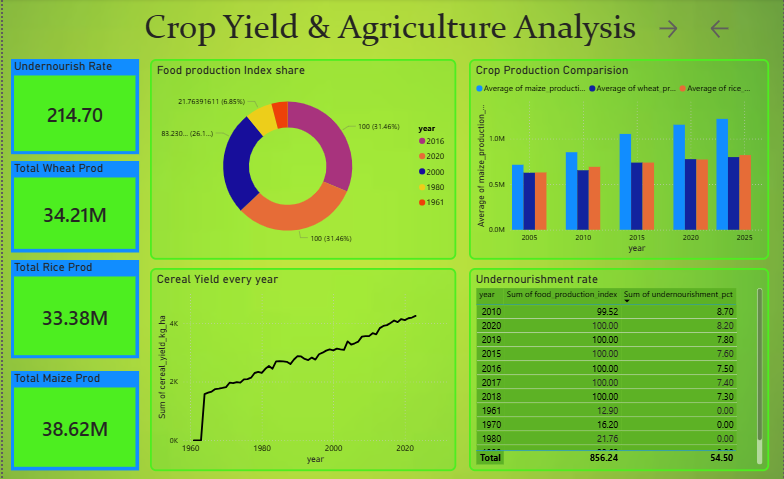

The dashboard page shown, as its layout file describes it:
{"tool":"powerbi","page":{"name":"Crop Yield & Agriculture Analysis","canvas":[1280,790],"ordinal":3},"visuals":[{"type":"clusteredColumnChart","title":"Crop Production Comparision","fields":{"Y":["Avg(crop_yields (1).maize_production_mt)","Avg(crop_yields (1).wheat_production_mt)","Avg(crop_yields (1).rice_paddy_production_mt)"],"Category":["crop_yields (1).year"]},"box":[764.3,100.8,492.2,329.2],"z":0},{"type":"lineChart","title":"Cereal Yield every year","fields":{"Category":["crop_yields (1).year"],"Y":["Sum(food_security_indicators (1).cereal_yield_kg_ha)"]},"box":[240.2,441.8,502.3,332.6],"z":1000},{"type":"donutChart","title":"Food production Index share ","fields":{"Y":["Sum(food_security_indicators (1).food_production_index)"],"Category":["food_security_indicators (1).year"]},"box":[240.2,100.8,502.3,329.2],"z":2000},{"type":"tableEx","title":"Undernourishment rate","fields":{"Values":["food_security_indicators (1).year","Sum(food_security_indicators (1).food_production_index)","Sum(food_security_indicators (1).undernourishment_pct)"]},"box":[764.3,441.8,492.2,332.6],"z":3000},{"type":"cardVisual","title":"Total Wheat Prod","fields":{"Data":["metrics.Total Wheat Prod"]},"box":[13.4,267.1,210,149.5],"z":4000},{"type":"cardVisual","title":"Total Rice Prod","fields":{"Data":["metrics.Total Rice Prod"]},"box":[13.4,430,210,161.3],"z":5000},{"type":"cardVisual","title":"Total Maize Prod","fields":{"Data":["metrics.Total Maize Prod"]},"box":[13.4,611.4,210,162.9],"z":6000},{"type":"cardVisual","title":"Undernourish Rate","fields":{"Data":["metrics.Avg Undernourishment rate"]},"box":[13.4,100.8,210,156.2],"z":7000},{"type":"textbox","title":"Crop Yield & Agriculture Analysis","box":[13.4,13.4,1243,75.6],"z":8000},{"type":"actionButton","box":[1070.3,31.1,100,39.3],"z":8001},{"type":"actionButton","box":[1155.5,31.1,100,39.3],"z":8002}]}

Visuals, with their boxes in screenshot pixels (x1, y1, x2, y2), scaled from the page's 1280x790 canvas onto the 784x479 screenshot:
"Crop Production Comparision" clusteredColumnChart: {"x1": 468, "y1": 61, "x2": 770, "y2": 261}
"Cereal Yield every year" lineChart: {"x1": 147, "y1": 268, "x2": 455, "y2": 470}
"Food production Index share " donutChart: {"x1": 147, "y1": 61, "x2": 455, "y2": 261}
"Undernourishment rate" tableEx: {"x1": 468, "y1": 268, "x2": 770, "y2": 470}
"Total Wheat Prod" cardVisual: {"x1": 8, "y1": 162, "x2": 137, "y2": 253}
"Total Rice Prod" cardVisual: {"x1": 8, "y1": 261, "x2": 137, "y2": 359}
"Total Maize Prod" cardVisual: {"x1": 8, "y1": 371, "x2": 137, "y2": 469}
"Undernourish Rate" cardVisual: {"x1": 8, "y1": 61, "x2": 137, "y2": 156}
"Crop Yield & Agriculture Analysis" textbox: {"x1": 8, "y1": 8, "x2": 770, "y2": 54}
actionButton: {"x1": 656, "y1": 19, "x2": 717, "y2": 43}
actionButton: {"x1": 708, "y1": 19, "x2": 769, "y2": 43}
